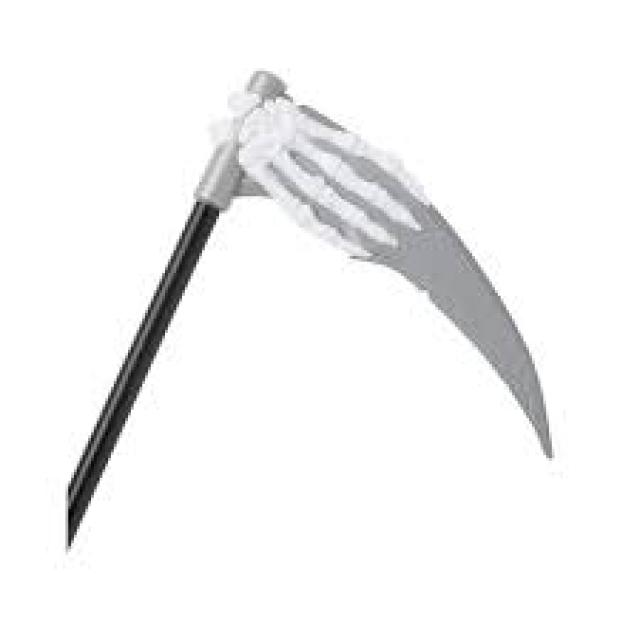sickle: (86, 53, 572, 640)
